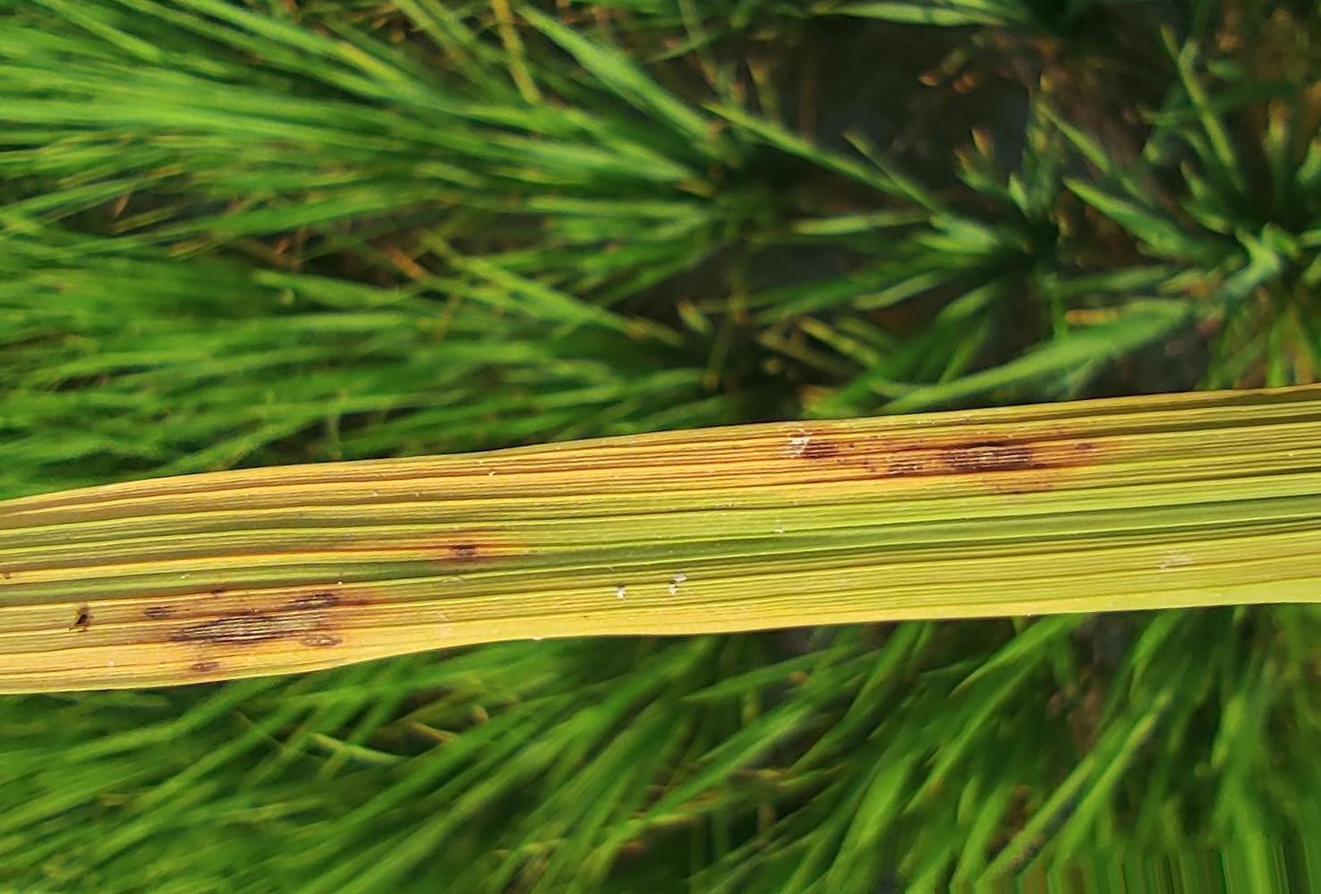LEAF: (0, 385, 1320, 693)
LEAF BLAST: (170, 612, 318, 644), (930, 447, 1056, 471), (293, 592, 340, 609), (884, 458, 926, 477), (802, 439, 839, 457), (302, 634, 340, 647), (450, 543, 477, 558), (190, 661, 218, 672), (145, 607, 172, 618)
